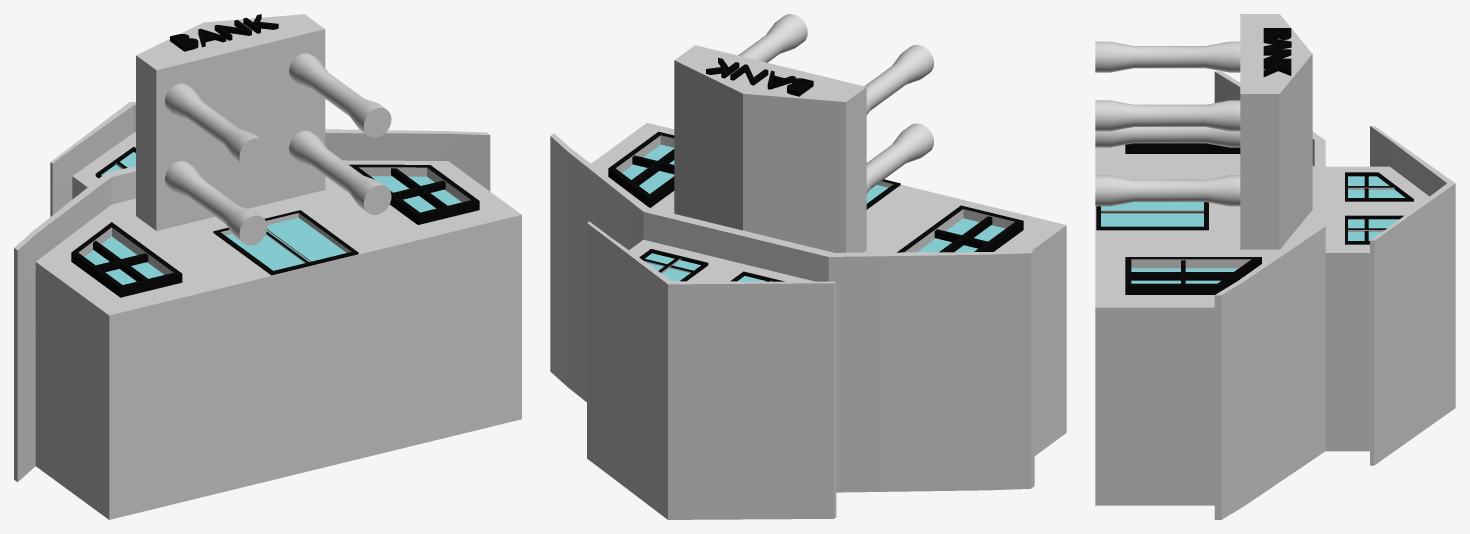
Rendered from Bank.fbx.
The picture shows the model from 3 angles, left to right: view 1: azimuth 30°, elevation 25°; view 2: azimuth 150°, elevation 25°; view 3: azimuth 270°, elevation 25°; orthographic projection. The views are drawn at different scales.
Parts seen in each view (by area): view 1: Cube, Door 1, Door; view 2: Cube; view 3: Cube, Door 1, Door.
Part boxes in pixels (x1=…): Cube: x1=14, y1=14, x2=521, y2=519; Door 1: x1=266, y1=217, x2=346, y2=261; Door: x1=225, y1=231, x2=308, y2=270; Cube: x1=550, y1=14, x2=1066, y2=519; Cube: x1=1095, y1=14, x2=1455, y2=519; Door 1: x1=1101, y1=211, x2=1203, y2=226; Door: x1=1101, y1=202, x2=1203, y2=211.
Bounding box in the file's own units: 19.3 × 14.44 × 13.13.
